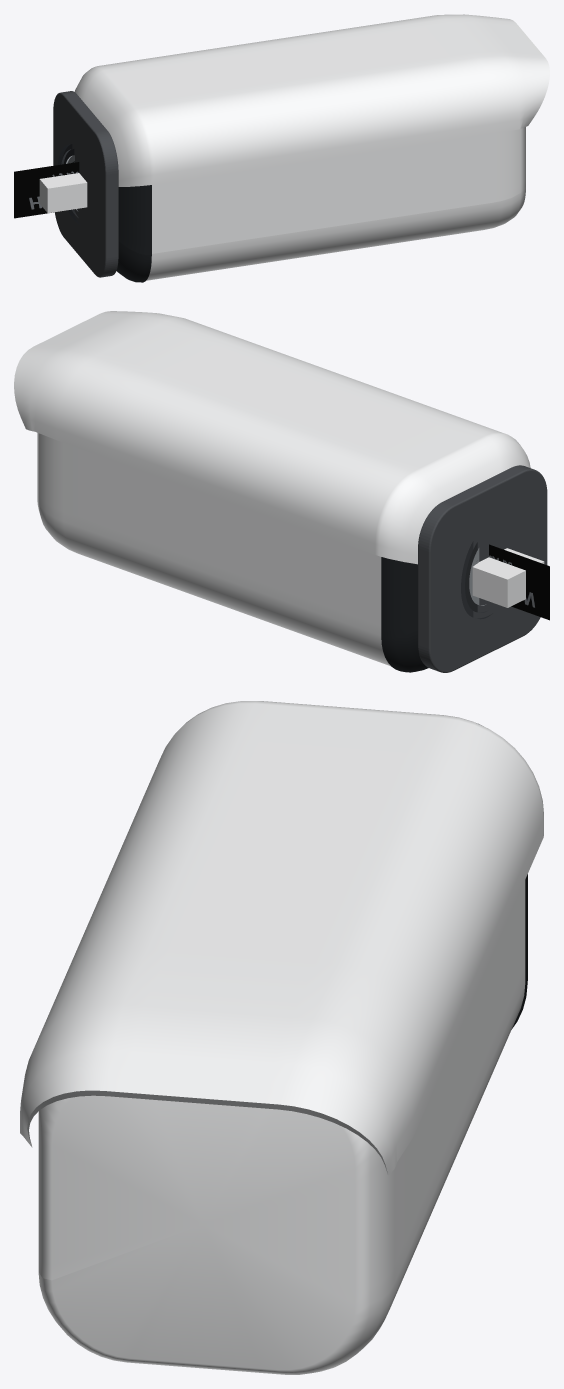
The picture shows the model from 3 angles, top to bottom: view 1: azimuth 30°, elevation 25°; view 2: azimuth 150°, elevation 25°; view 3: azimuth 270°, elevation 25°; orthographic projection. The views are drawn at different scales.
Parts seen in each view (by area): view 1: body_white_14, body_white_01, face_dark_03, tail_panel_black_02, logoB, body_white_21; view 2: body_white_14, body_white_01, face_dark_03, tail_panel_black_02, body_white_21, logoA; view 3: body_white_14, body_white_01, part_17.
Boxes of the visible parts, x1,y1,x2,y2 form: body_white_14: (74, 14, 549, 186); body_white_01: (146, 127, 525, 280); face_dark_03: (53, 91, 118, 277); tail_panel_black_02: (116, 185, 151, 282); logoB: (14, 162, 79, 218); body_white_21: (39, 173, 87, 213); body_white_14: (14, 311, 530, 564); body_white_01: (37, 433, 390, 666); face_dark_03: (418, 465, 547, 672); tail_panel_black_02: (381, 557, 428, 672); body_white_21: (472, 548, 544, 607); logoA: (489, 544, 549, 620); body_white_14: (20, 701, 543, 1175); body_white_01: (38, 880, 525, 1374); part_17: (27, 1090, 387, 1173).
Size of the model in its own units: 0.2021 by 0.0698 by 0.0965.
16 materials, 3 textured.
